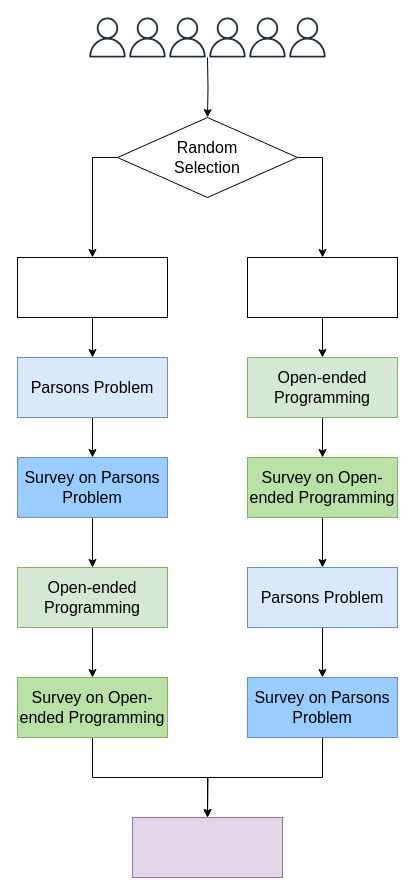
The diagram is 415 pixels wide and 895 high, and some of its shapes have lost their labels. The box of each missing label's shape, as (x1, y1, x2, y2) in pixels:
Group A: (16, 256, 168, 318)
Group B: (246, 256, 398, 318)
Post-Experiment Survey: (132, 816, 282, 878)
